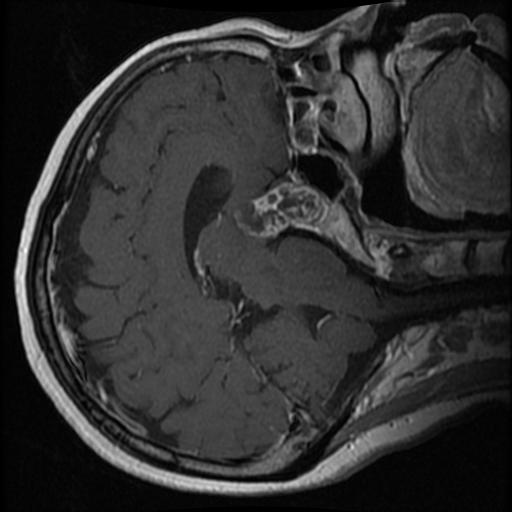pituitary tumour: (233, 180, 326, 237)
